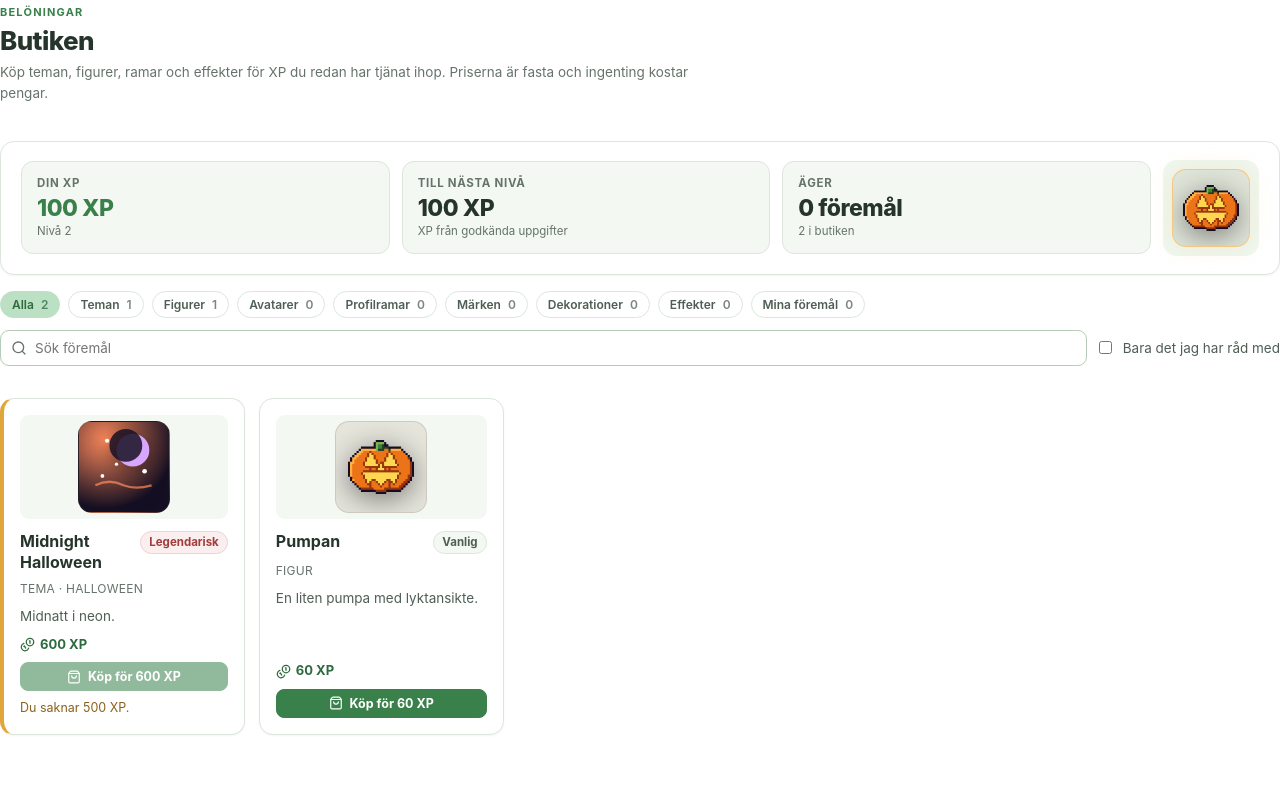
it: ElevButik › visar ett tydligt fel när köpet nekas av servern
Expected: the heading "Pumpan" is shown, [276,531,340,552]
Click the button "Köp för 60 XP". click: point(381, 704)
box: [276,689,487,718]
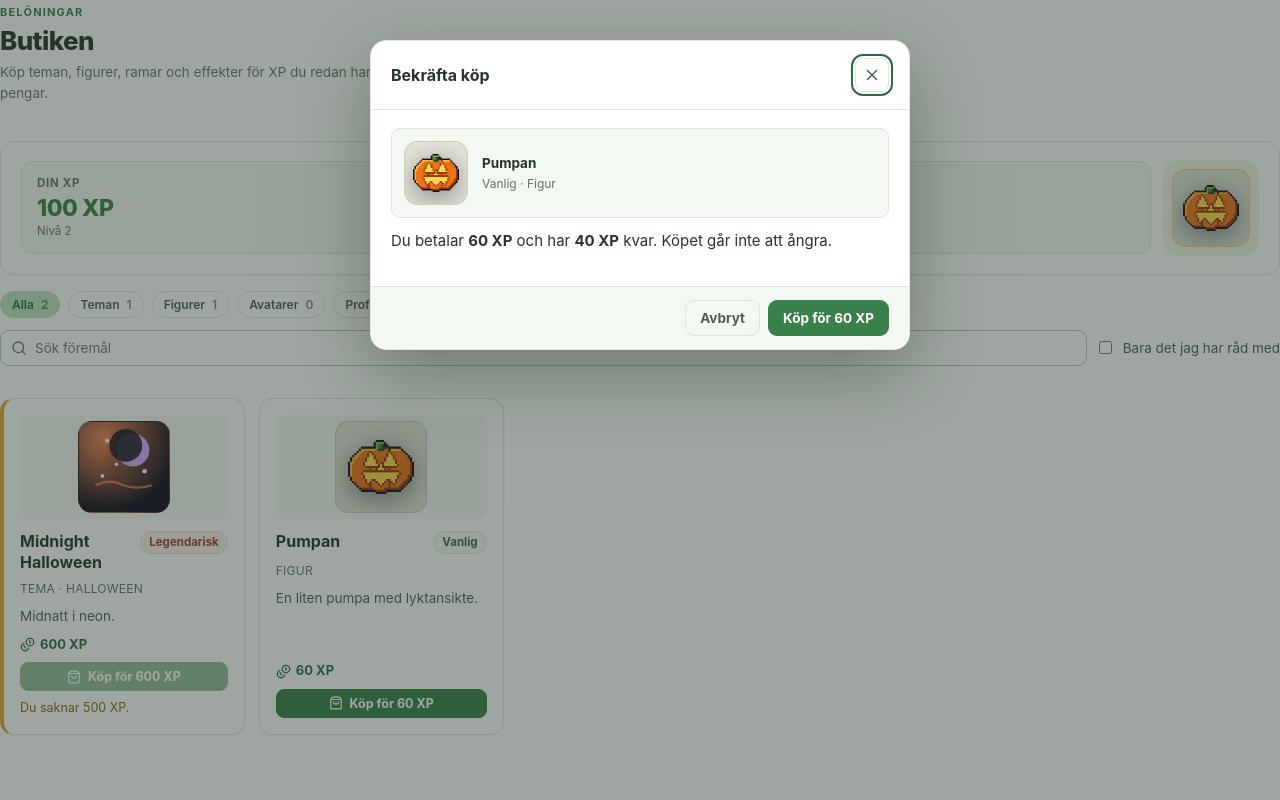
Click the button "Köp för 60 XP". click: point(828, 318)
box: [768,300,889,336]
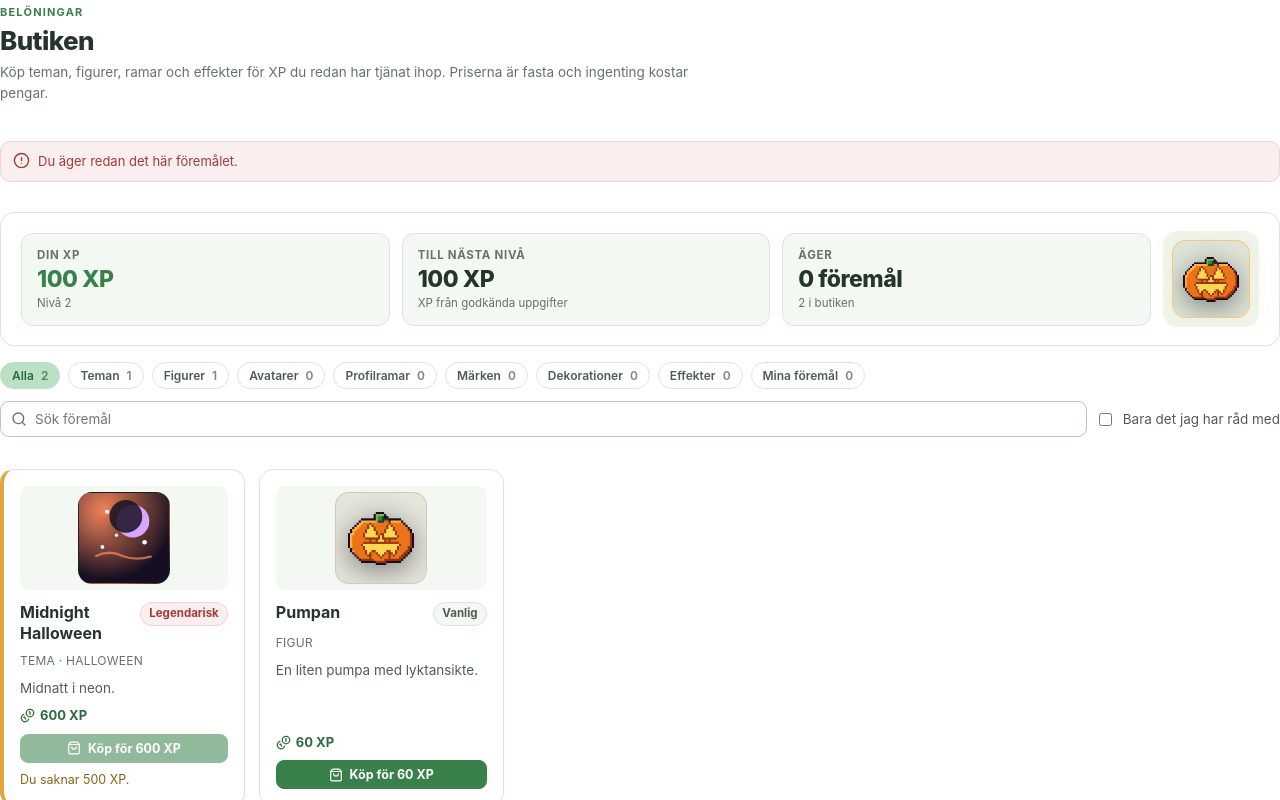
Now the text "Du äger redan det här föremålet." is shown, box [38,152,238,171]
